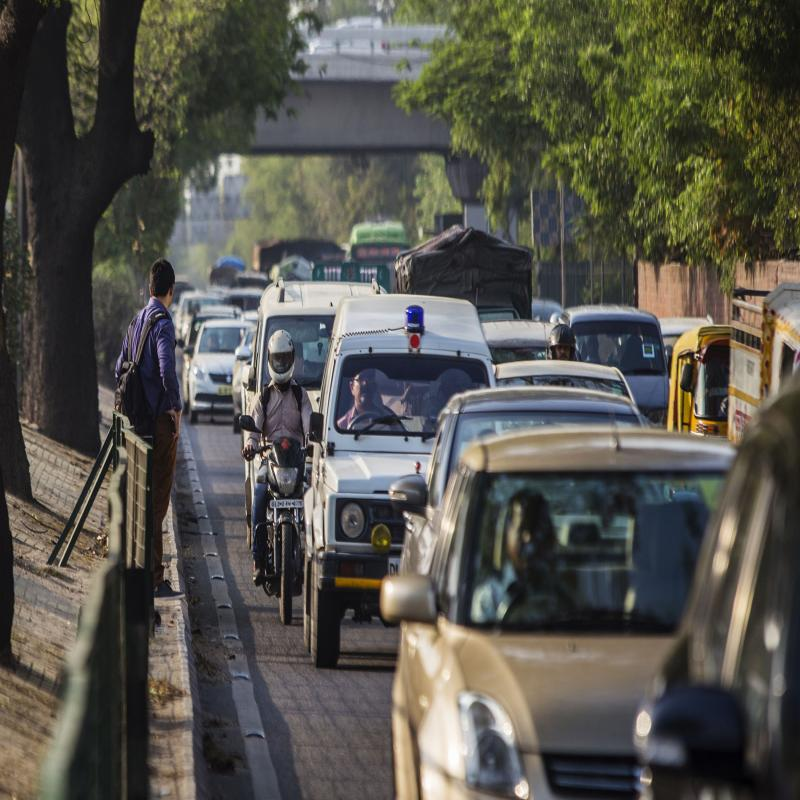auto: (668, 313, 733, 443)
bike: (252, 428, 306, 633)
car: (411, 422, 772, 800), (185, 302, 244, 417)
